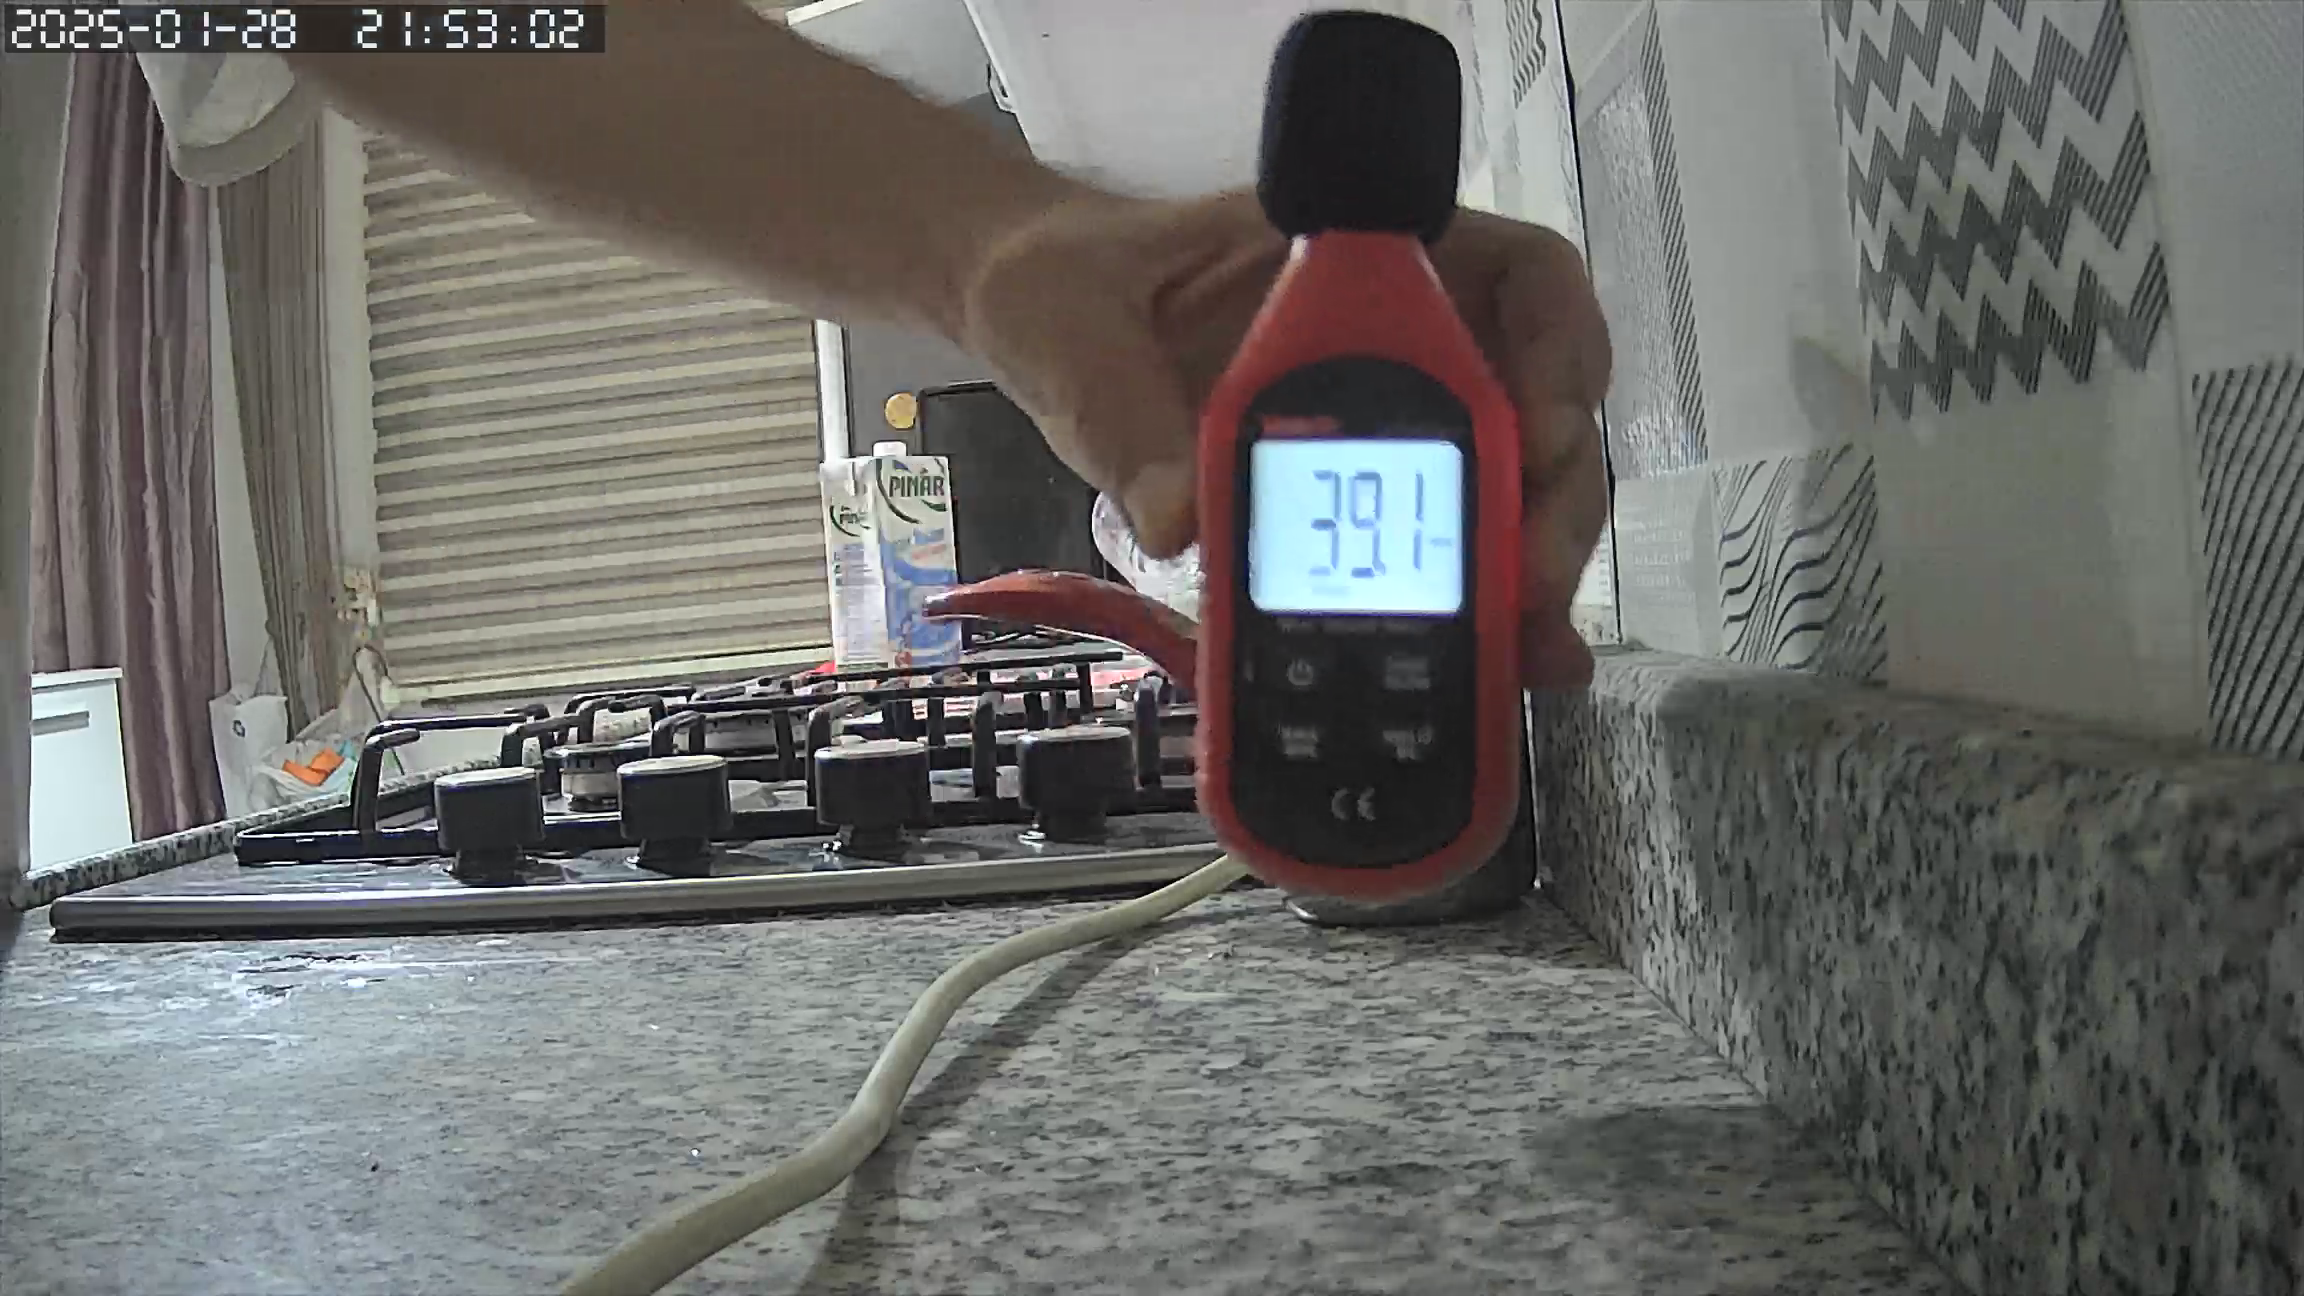screen: (1250, 437, 1465, 616)
